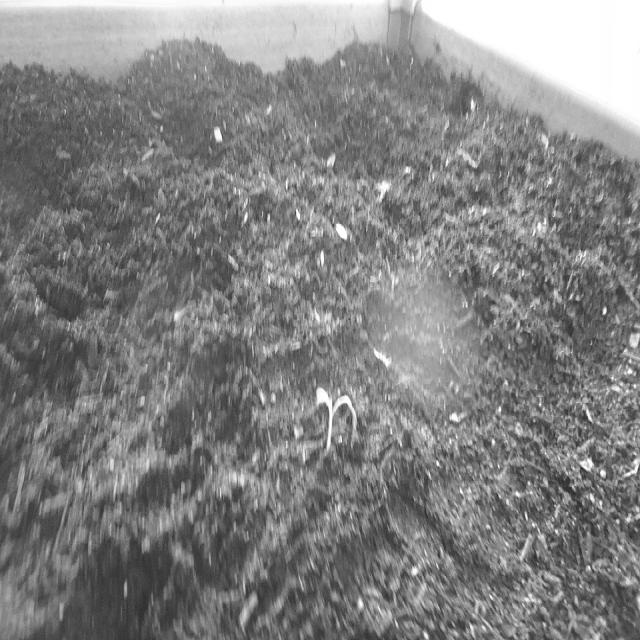Healthy: (310, 380, 364, 459)
